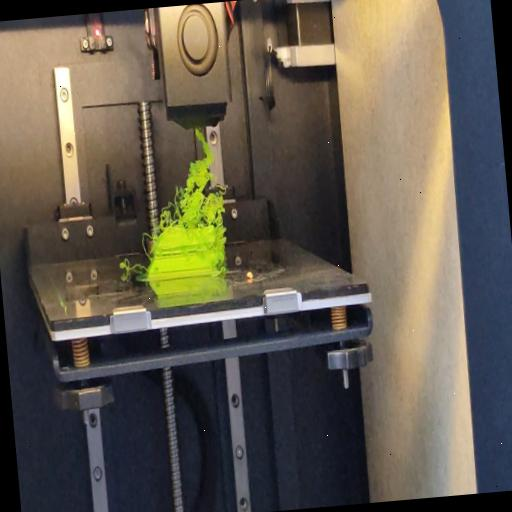spaghetti: (150, 125, 226, 230), (214, 224, 232, 276), (116, 255, 146, 273), (142, 232, 155, 260)
